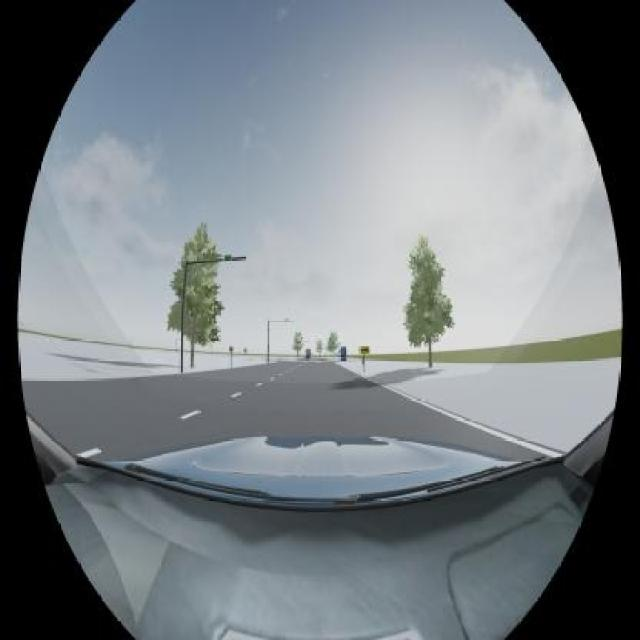forb_speed_over_30: (229, 346, 233, 352)
